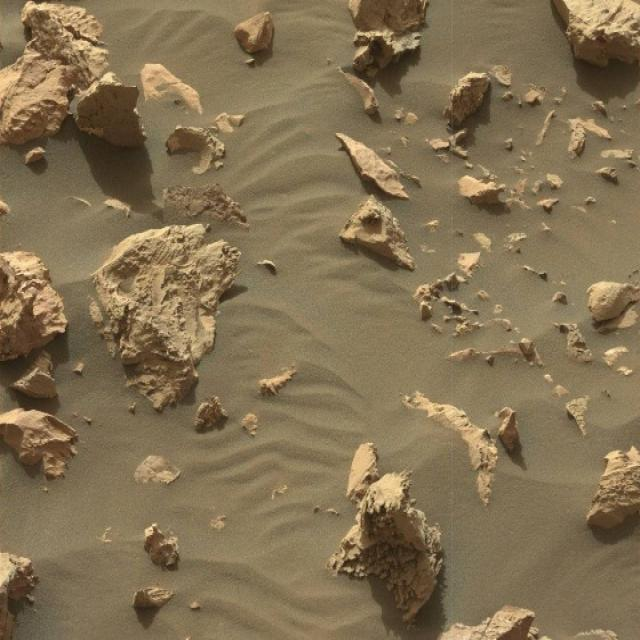mars-rocks: (93, 224, 241, 410), (328, 444, 444, 624), (339, 195, 416, 270), (554, 0, 640, 66), (336, 133, 409, 198), (588, 447, 640, 530)
